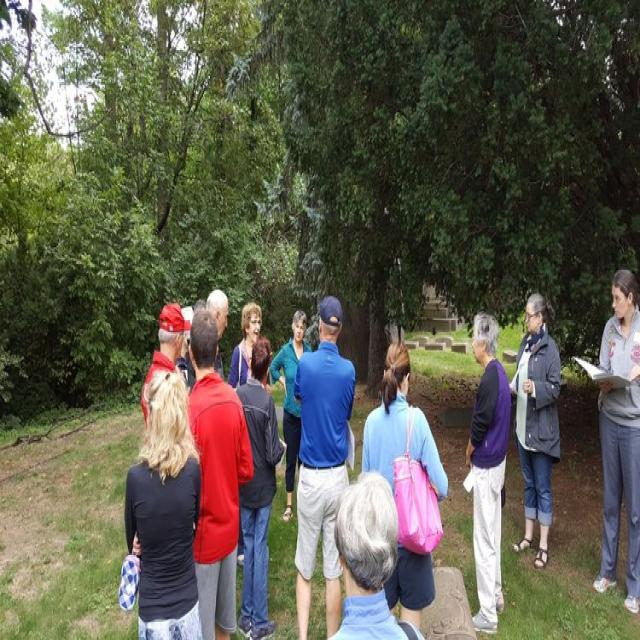body: (359, 338, 451, 634), (179, 299, 258, 638), (114, 366, 208, 638), (291, 288, 360, 639), (589, 262, 639, 622), (325, 467, 428, 640), (232, 335, 287, 639), (506, 288, 563, 578), (463, 308, 512, 638), (267, 308, 313, 525), (140, 302, 192, 431), (167, 293, 211, 414), (187, 288, 229, 390), (227, 300, 271, 392)
